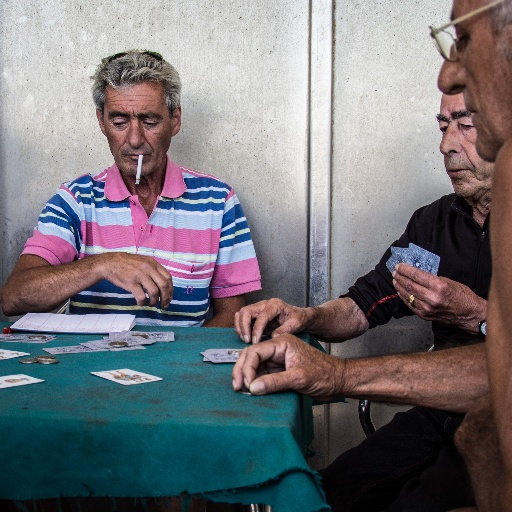hand: (231, 329, 348, 401), (397, 258, 480, 329), (97, 252, 174, 308), (232, 297, 308, 346)
